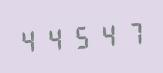five: (68, 20, 92, 52)
four: (18, 24, 42, 55), (43, 22, 67, 53), (93, 19, 117, 50)
seven: (118, 17, 142, 48)
